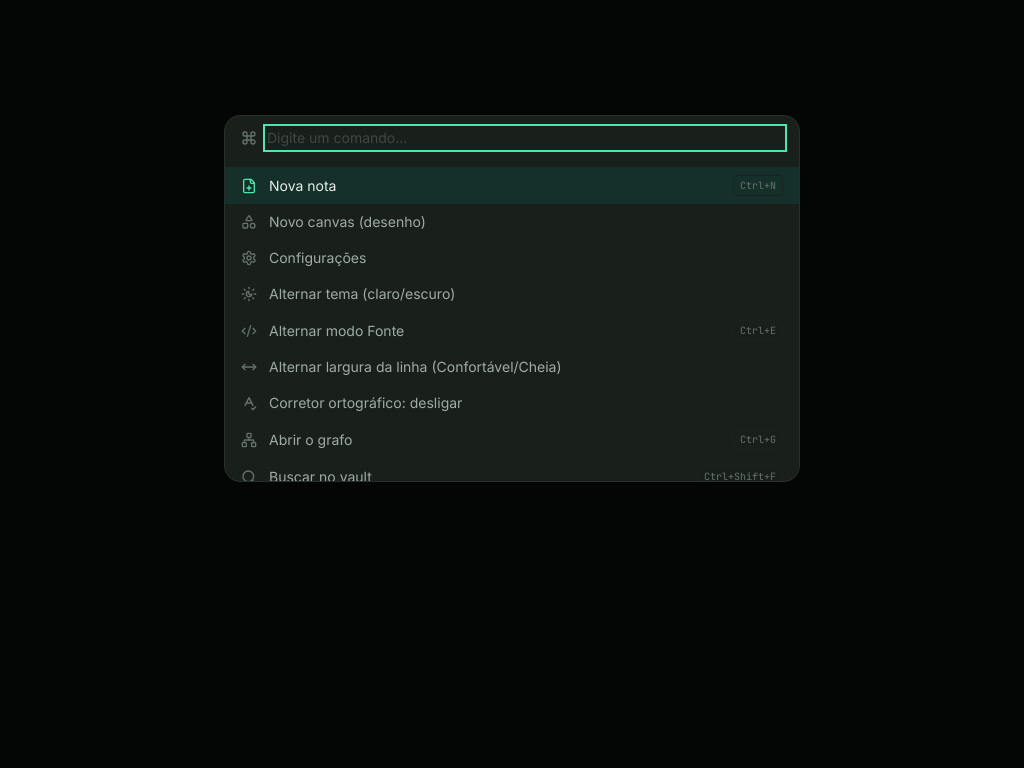
Test case: CommandPalette (E7) › estado vazio quando nada casa
Type "zzzxyzq" into the field with placeholder "Digite um comando…". click: x=525, y=138
box: [267,128,783,148]
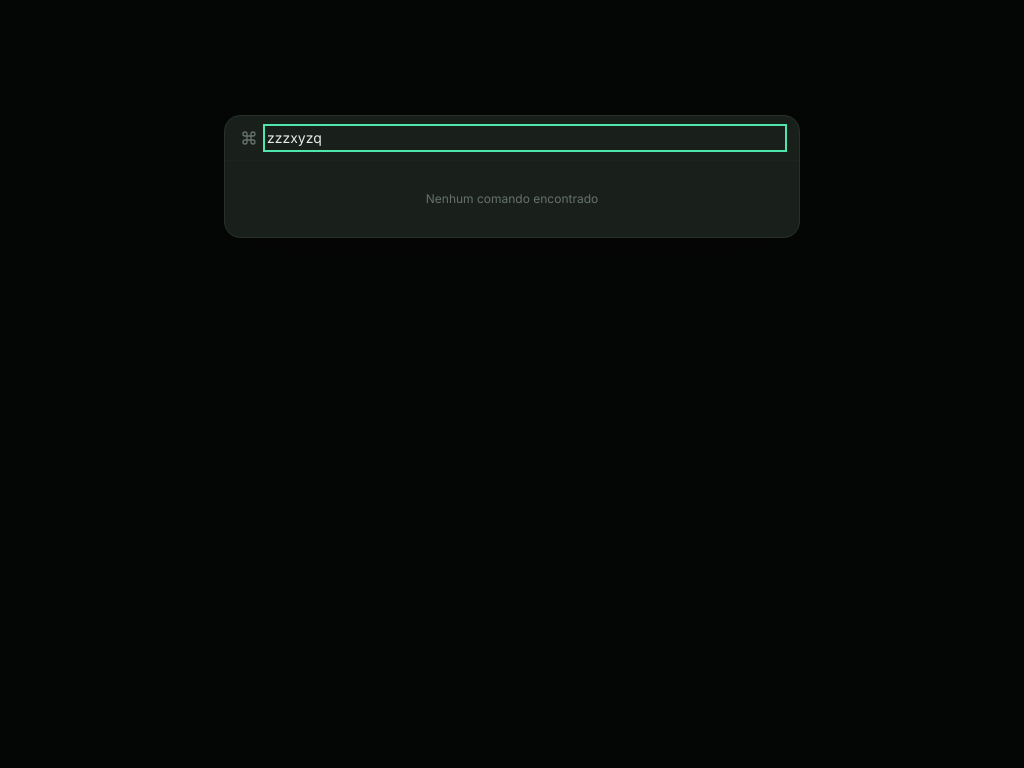
Check: the text "Nenhum comando encontrado" is shown, box [426,191,598,206]
